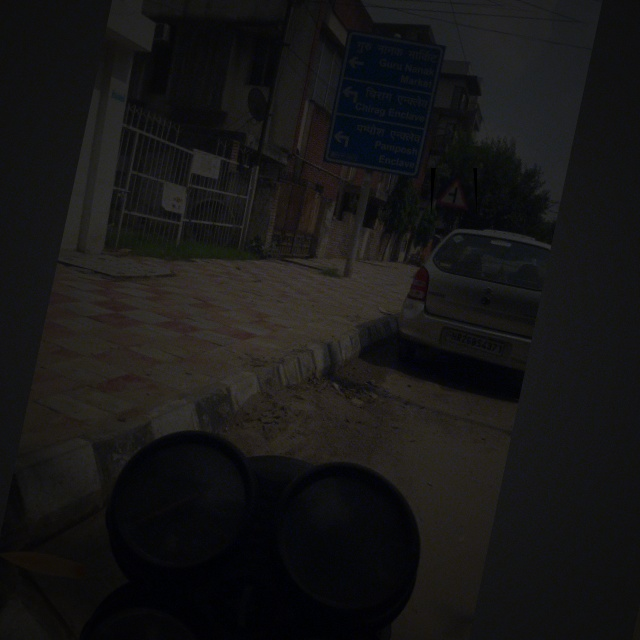Side_Road_Left: (431, 168, 477, 216)
